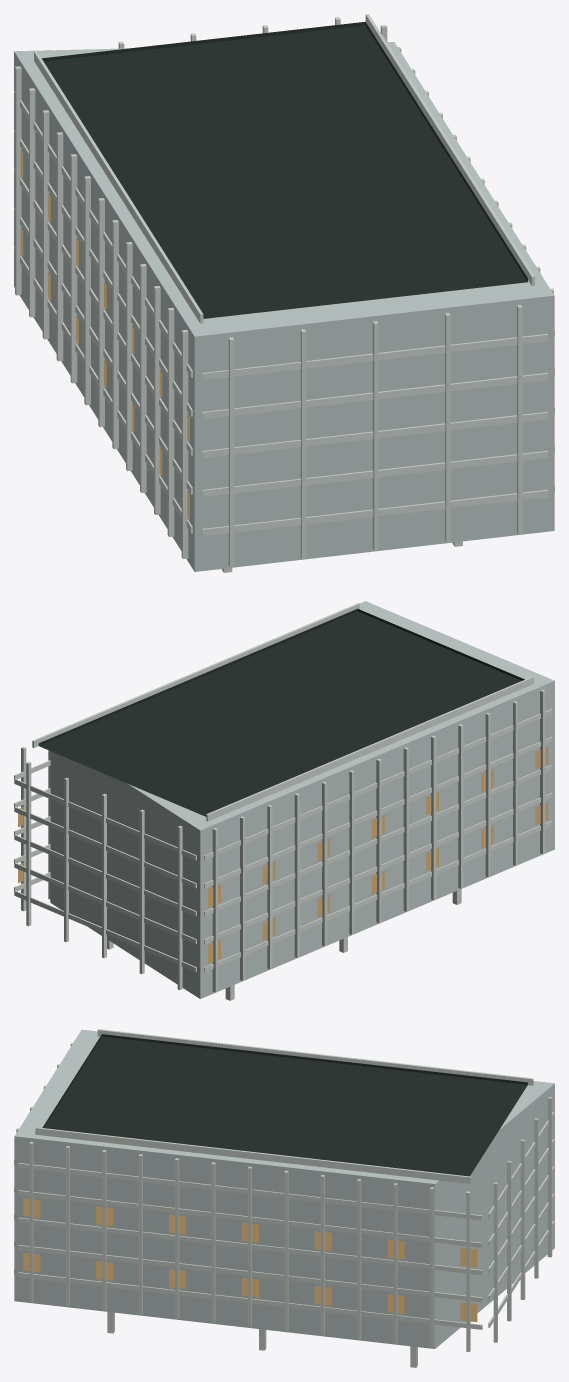
File: xiaomi-shenzhen.glb
3 views of the same model, one above another, from view 1: azimuth 30°, elevation 25°; view 2: azimuth 150°, elevation 25°; view 3: azimuth 270°, elevation 25° (orthographic). The views are drawn at different scales.
Parts seen in each view (by area): view 1: envelope, roof_deck, fins, floor_bands, parapet, night_windows; view 2: envelope, roof_deck, fins, floor_bands, parapet, night_windows; view 3: envelope, roof_deck, fins, floor_bands, parapet, night_windows, pilotis.
Boxes of the visible parts, x1=… form: envelope: x1=14, y1=42, x2=554, y2=571; roof_deck: x1=41, y1=21, x2=527, y2=318; fins: x1=15, y1=17, x2=553, y2=566; floor_bands: x1=14, y1=91, x2=554, y2=535; parapet: x1=34, y1=14, x2=534, y2=323; night_windows: x1=20, y1=150, x2=189, y2=519; envelope: x1=50, y1=601, x2=554, y2=998; roof_deck: x1=38, y1=608, x2=524, y2=816; fins: x1=21, y1=689, x2=545, y2=992; floor_bands: x1=14, y1=709, x2=552, y2=972; parapet: x1=32, y1=603, x2=533, y2=821; night_windows: x1=18, y1=746, x2=548, y2=963; envelope: x1=14, y1=1029, x2=554, y2=1348; roof_deck: x1=42, y1=1034, x2=527, y2=1176; fins: x1=16, y1=1042, x2=552, y2=1352; floor_bands: x1=14, y1=1111, x2=554, y2=1329; parapet: x1=35, y1=1029, x2=533, y2=1183; night_windows: x1=23, y1=1198, x2=477, y2=1322; pilotis: x1=107, y1=1312, x2=417, y2=1367.
Bounding box in the file's own units: 68.4 × 42.1 × 97.49.
